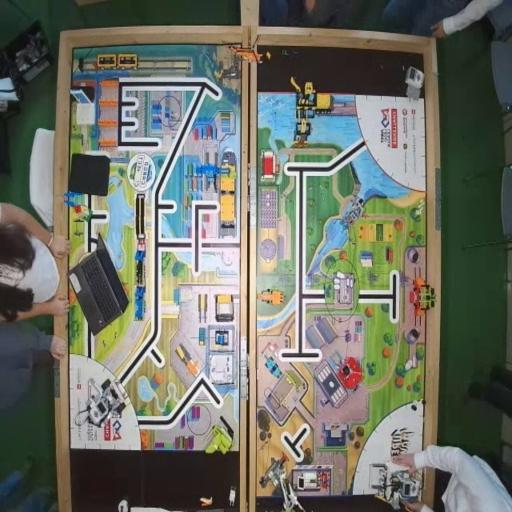lego_robot: (75, 377, 127, 431), (368, 462, 424, 512)
